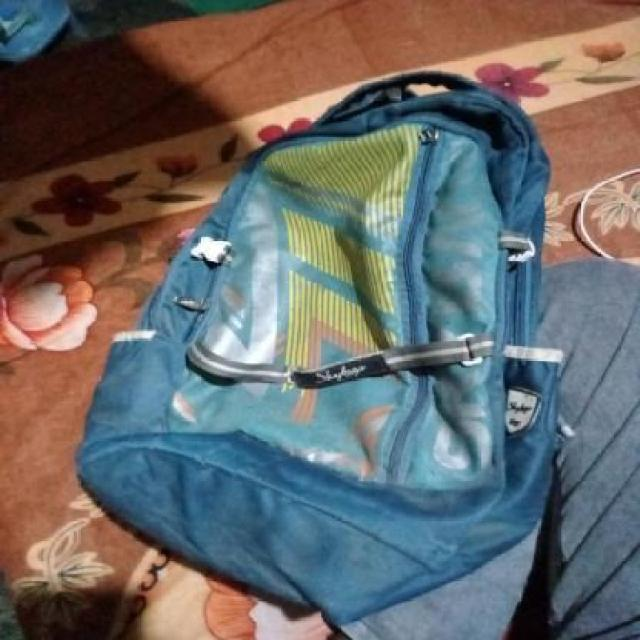backpack: (70, 66, 572, 631)
